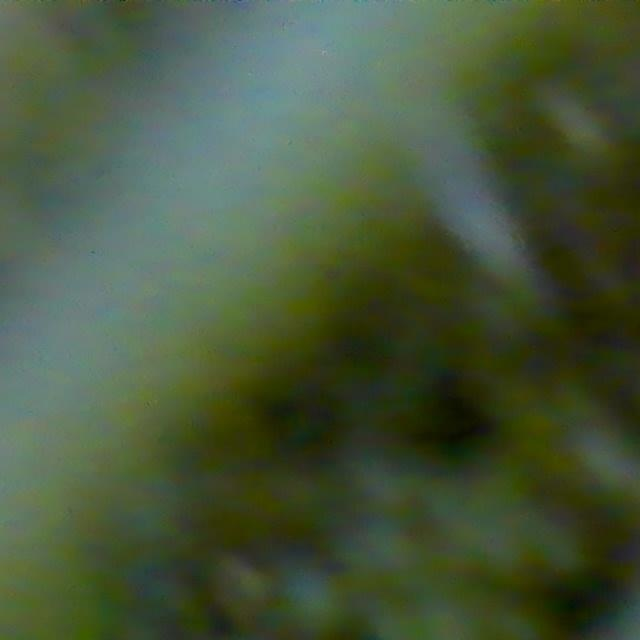SeaGrape: (278, 566, 351, 637)
